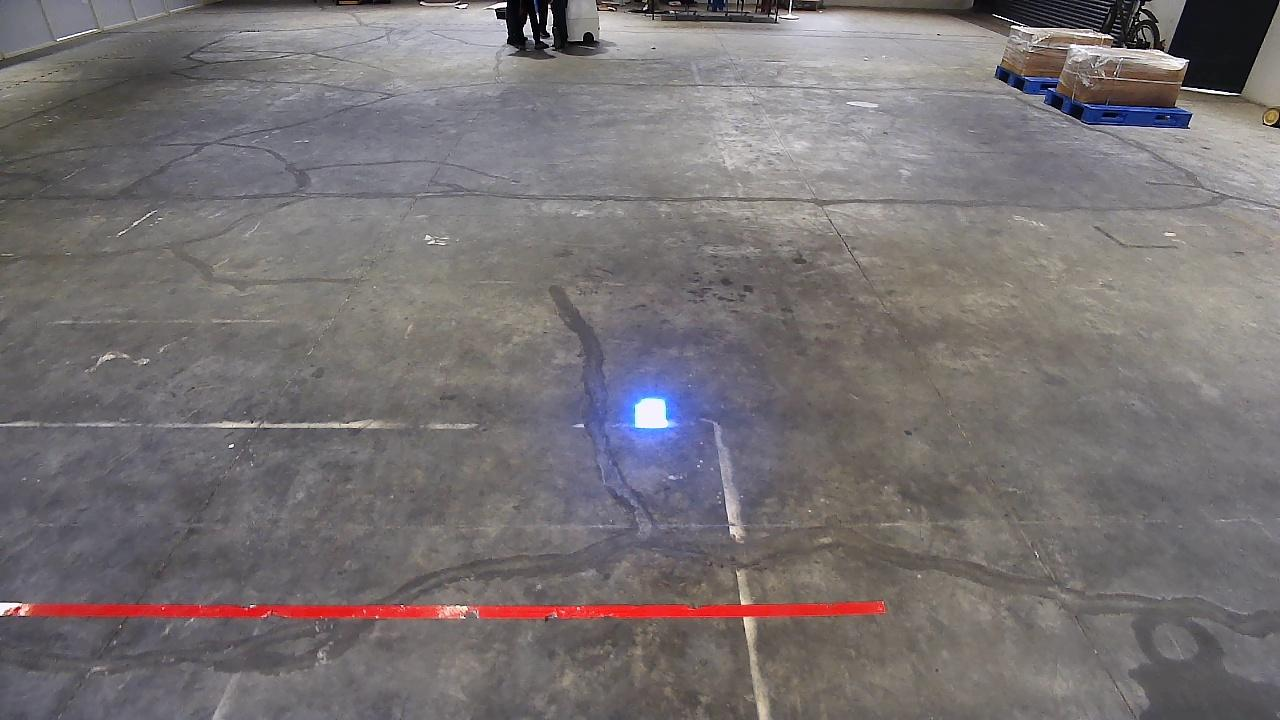red_line: (0, 595, 886, 616)
